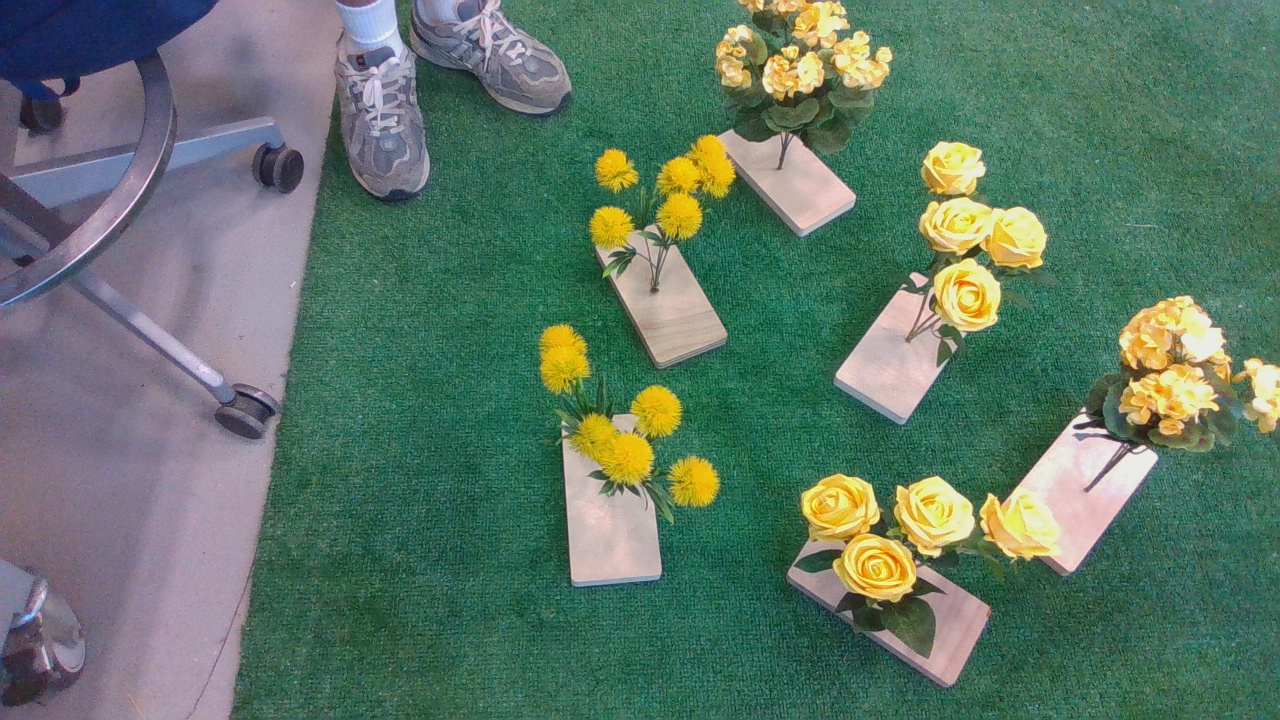dandelion: (535, 326, 738, 524), (569, 136, 744, 295)
geranium: (1083, 291, 1280, 494), (724, 2, 902, 169)
rose: (771, 460, 1074, 667), (896, 142, 1062, 370)
